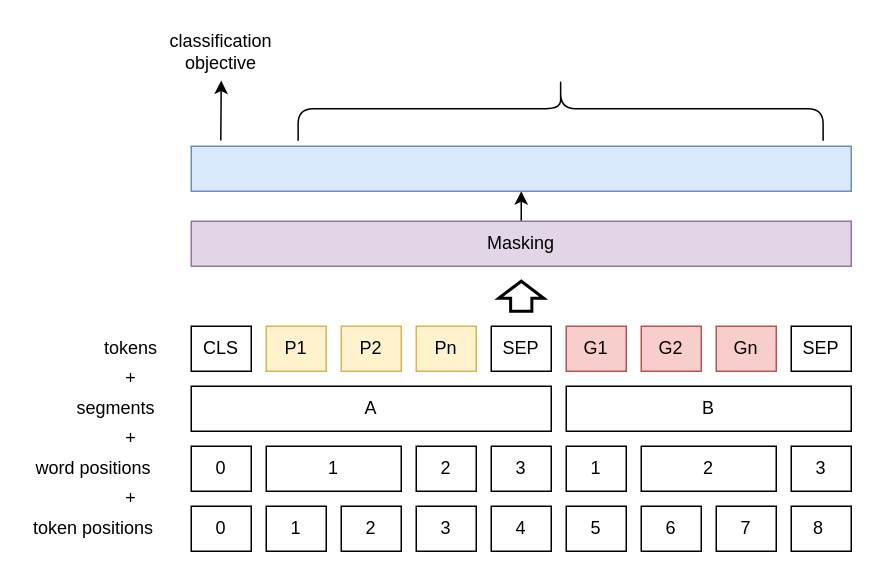
Some shapes in this 878 by 578 pixel diagram are drawn without their labels. The centre of each missing label's shape, as x and y in pixels:
MLM objective: the point at 560,108
Transformer: the point at 520,168
